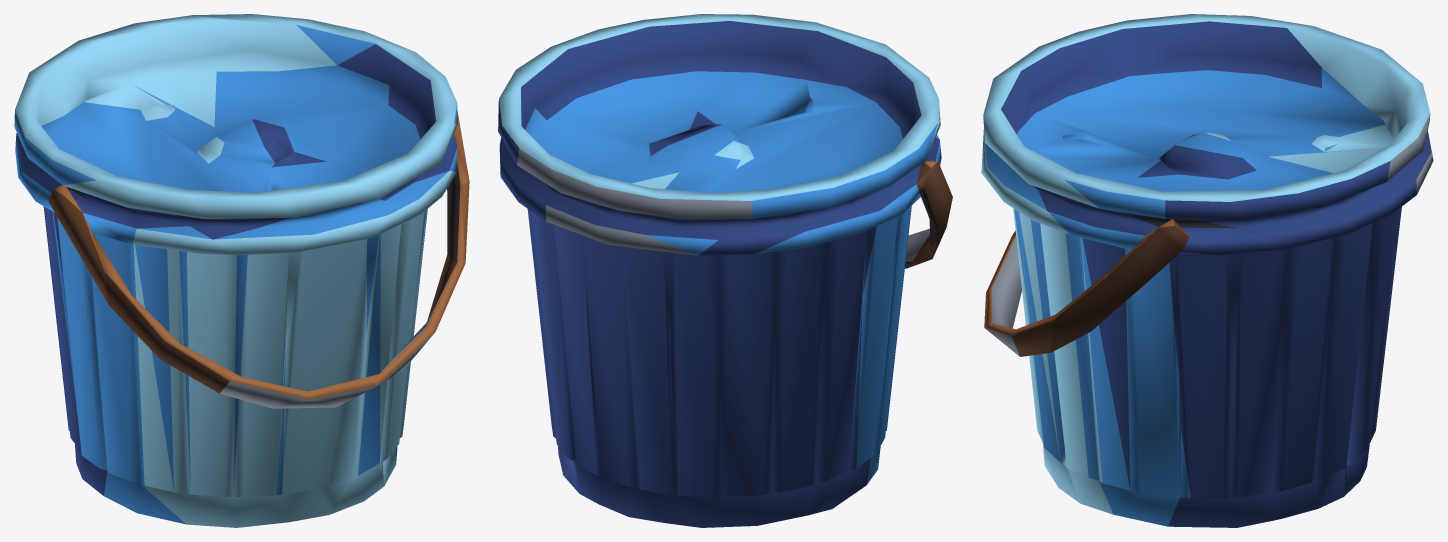
Rendered from SM_bucket_metal_blue.glb.
3 views of the same model, side by side, from view 1: azimuth 30°, elevation 25°; view 2: azimuth 150°, elevation 25°; view 3: azimuth 270°, elevation 25° (orthographic).
Parts seen in each view (by area): view 1: SM_bucket_metal_blue; view 2: SM_bucket_metal_blue; view 3: SM_bucket_metal_blue.
Part boxes in pixels (left/top/right/bottom): SM_bucket_metal_blue: left=14, top=14, right=469, bottom=527; SM_bucket_metal_blue: left=498, top=14, right=952, bottom=527; SM_bucket_metal_blue: left=981, top=14, right=1433, bottom=527.
Bounding box in the file's own units: 0.4646 × 0.4 × 0.4614.
1 material, 1 textured.
